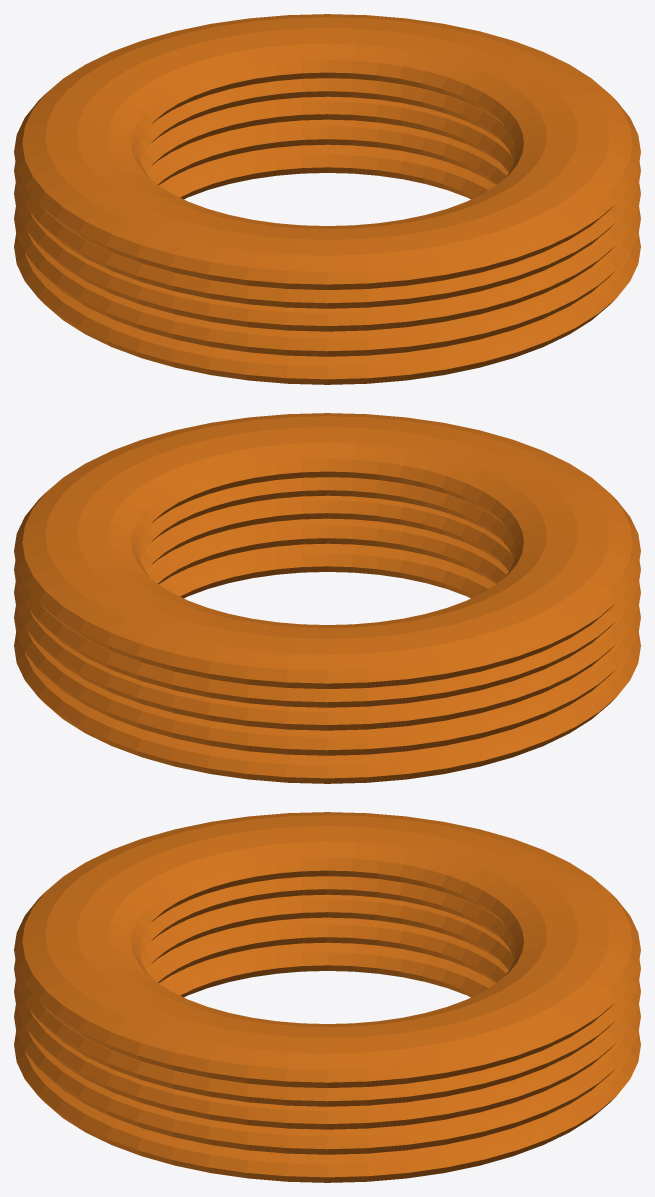
File: poolBlob.fbx
3 renders of one model, top to bottom at view 1: azimuth 30°, elevation 25°; view 2: azimuth 150°, elevation 25°; view 3: azimuth 270°, elevation 25°, orthographic.
Visible parts, largest first — view 1: Torus, Torus.005, Torus.004, Torus.003, Torus.002; view 2: Torus, Torus.005, Torus.004, Torus.003, Torus.002; view 3: Torus, Torus.005, Torus.004, Torus.003, Torus.002.
Boxes of the visible parts, <box> form: Torus: <box>14,14,640,289</box>; Torus.005: <box>14,144,640,384</box>; Torus.004: <box>14,119,640,356</box>; Torus.003: <box>14,96,640,331</box>; Torus.002: <box>14,78,640,308</box>; Torus: <box>14,413,640,688</box>; Torus.005: <box>14,543,640,783</box>; Torus.004: <box>14,518,640,755</box>; Torus.003: <box>14,495,640,730</box>; Torus.002: <box>14,477,640,707</box>; Torus: <box>14,812,640,1087</box>; Torus.005: <box>14,942,640,1182</box>; Torus.004: <box>14,917,640,1154</box>; Torus.003: <box>14,894,640,1129</box>; Torus.002: <box>14,876,640,1106</box>.
Bounding box in the file's own units: 29.09 × 6.71 × 29.09.
